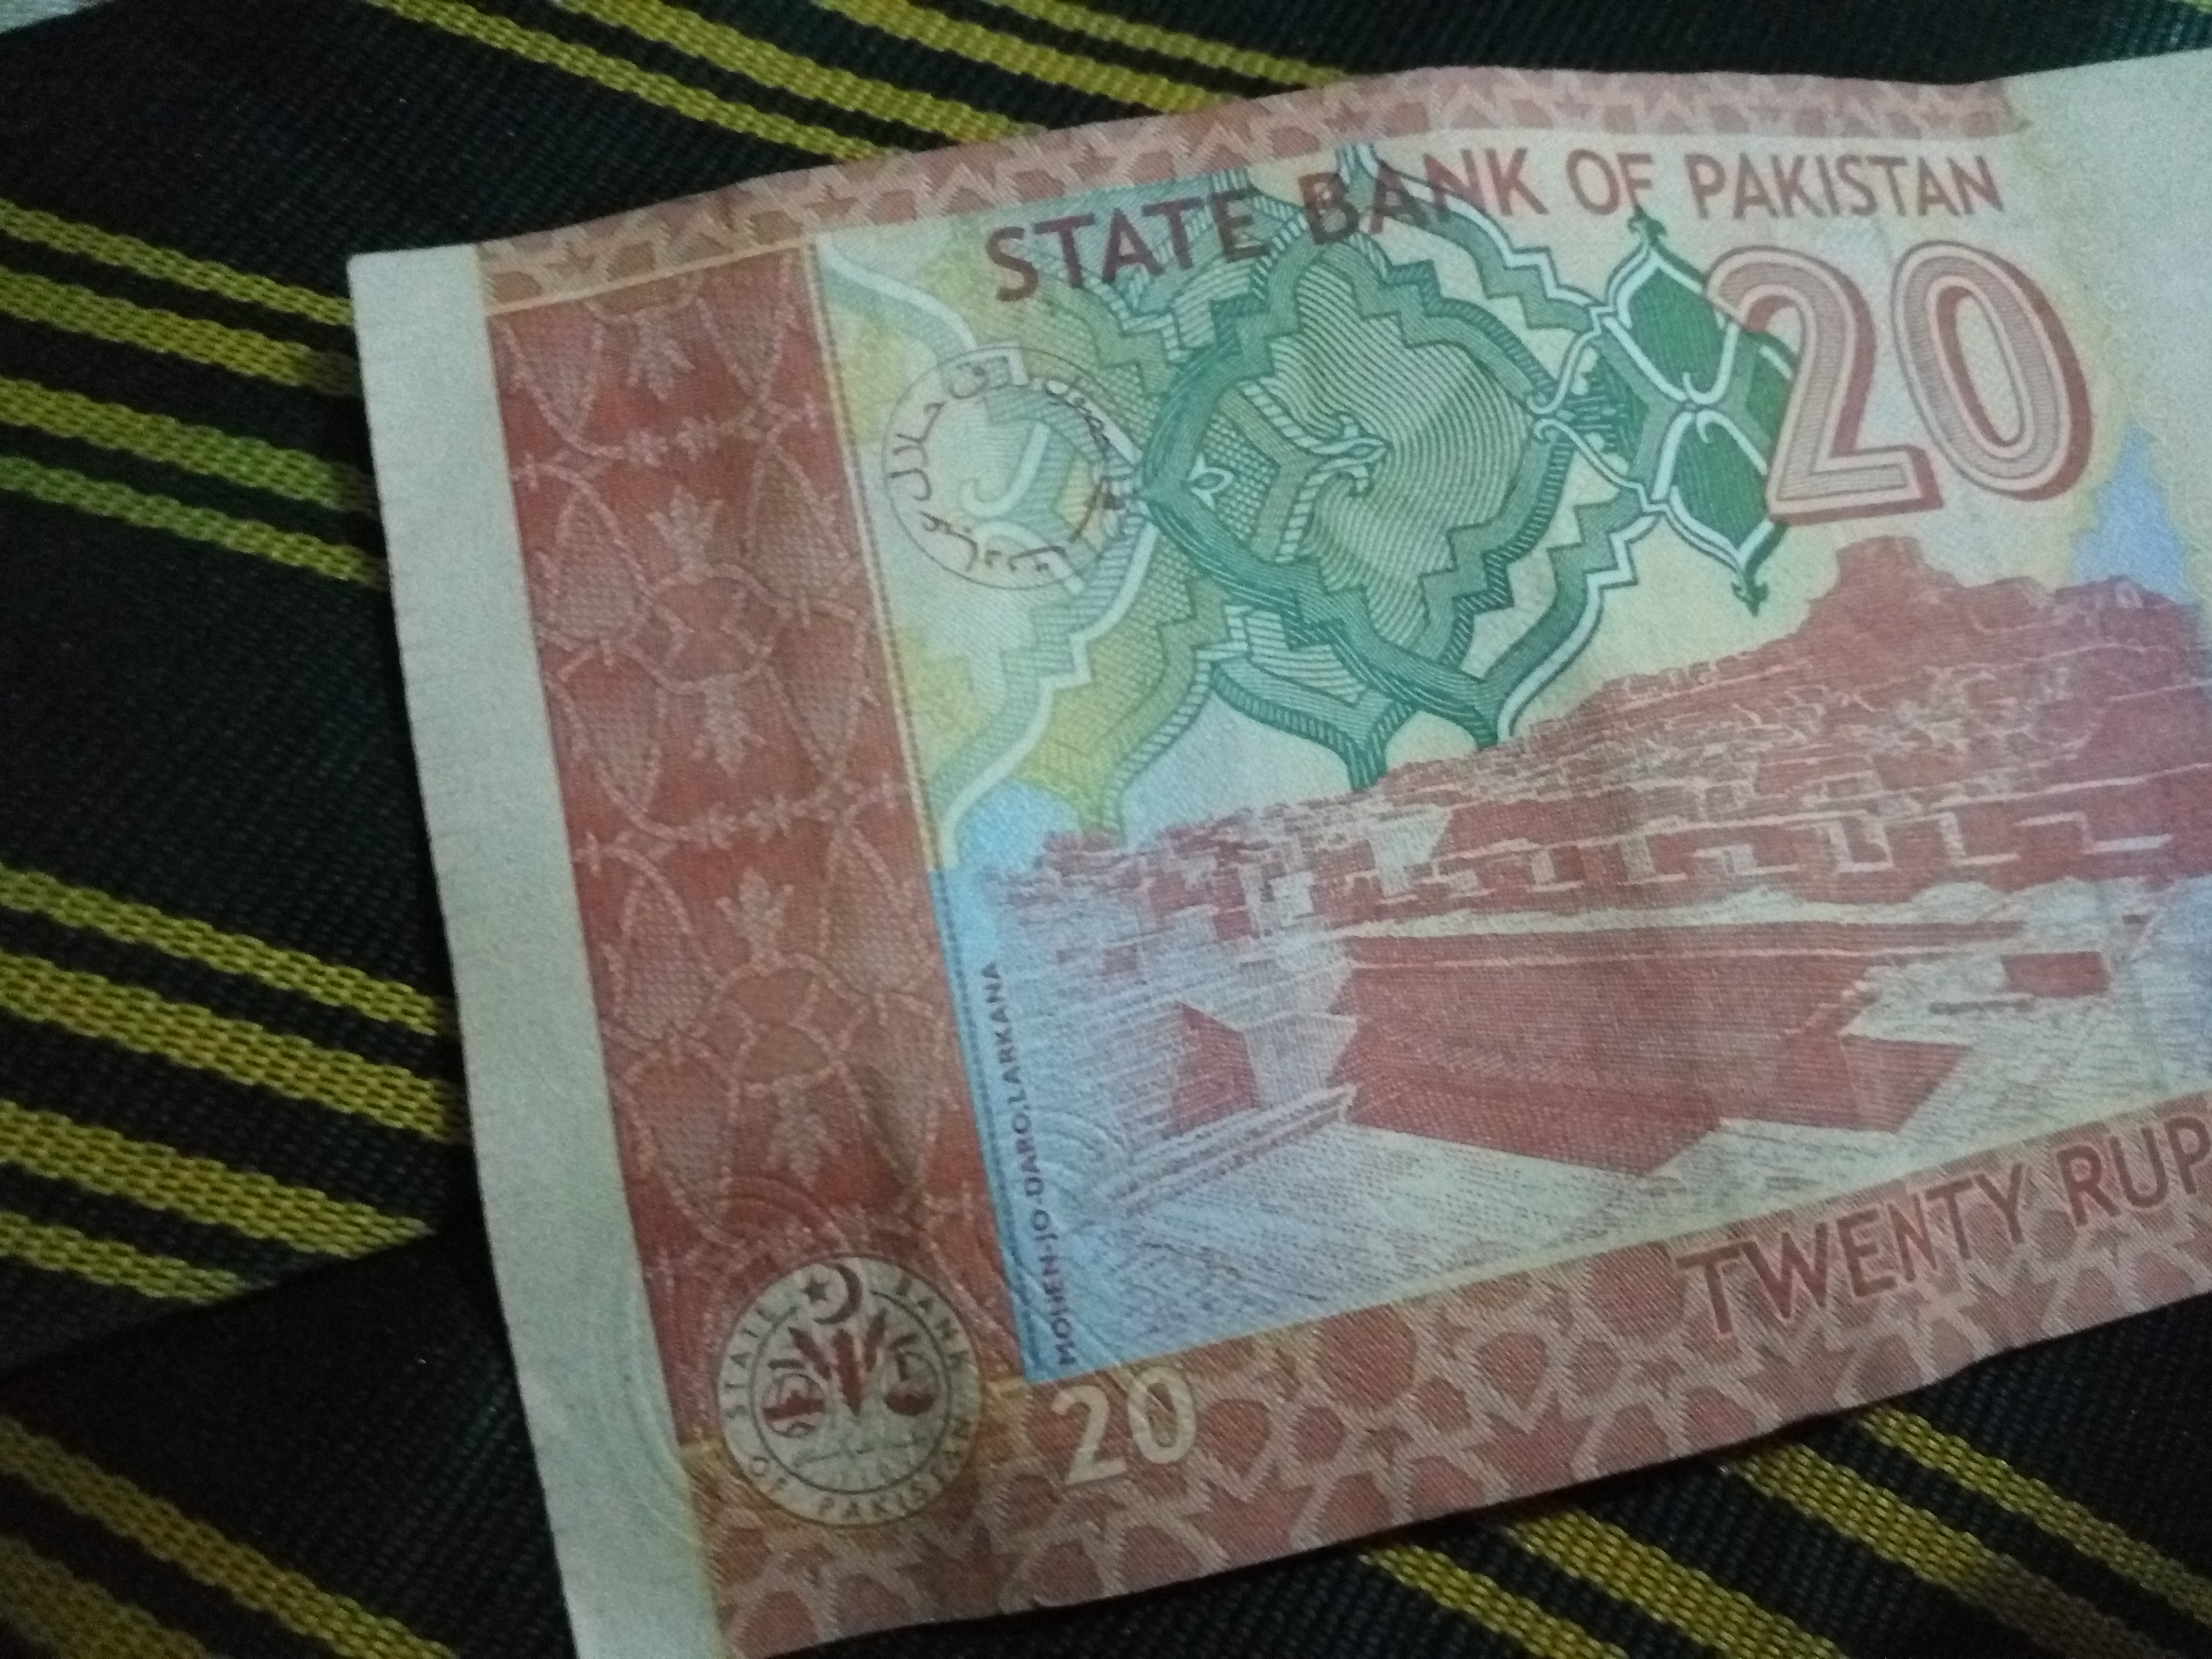20 rupee: (347, 117, 2168, 1600)
